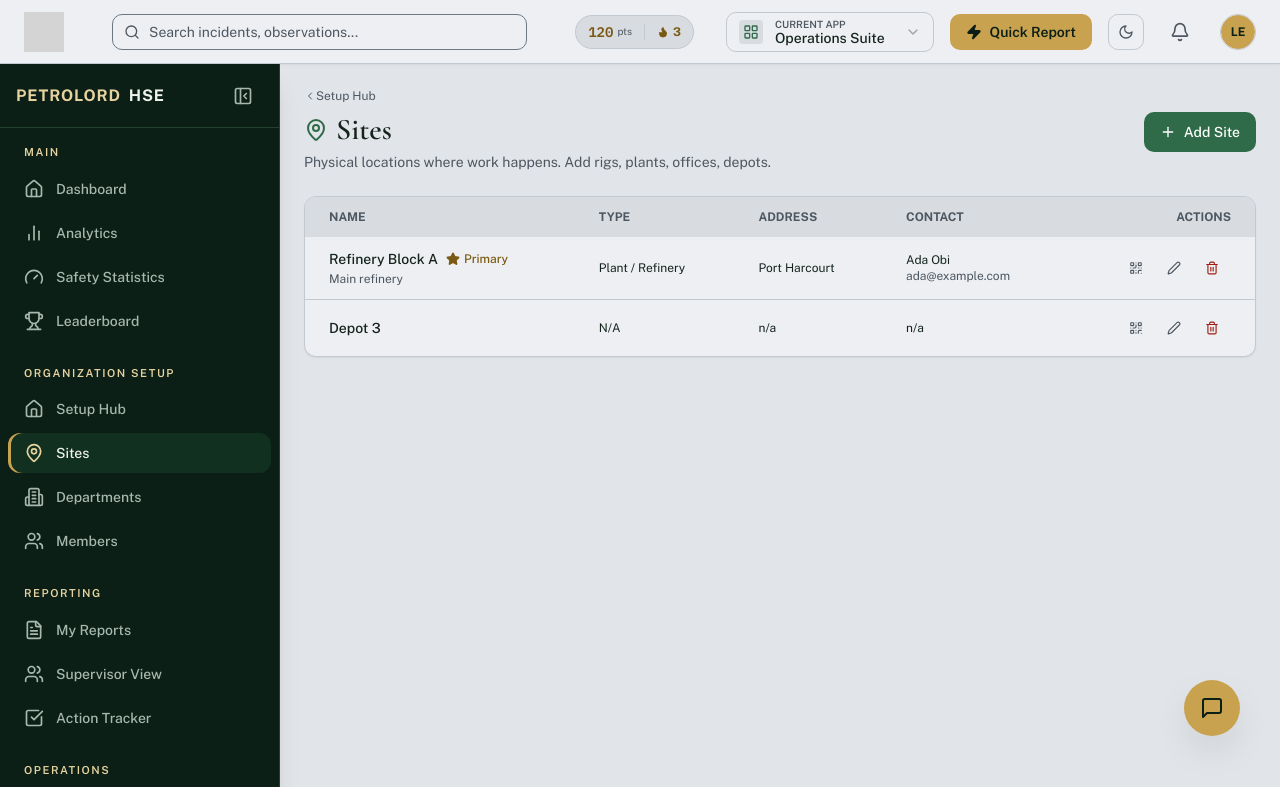
Test: Organisation admin (batch 1C) › further states › Sites: the add dialog (with the site type menu open) is themed, portals included
expect the text "Refinery Block A" is shown: met, box [329, 249, 438, 269]
Press the mouse on the button "Add Site" at (1200,132), box [1144, 112, 1256, 152]
Click the button "Add Site" at (1200,132), box [1144, 112, 1256, 152]
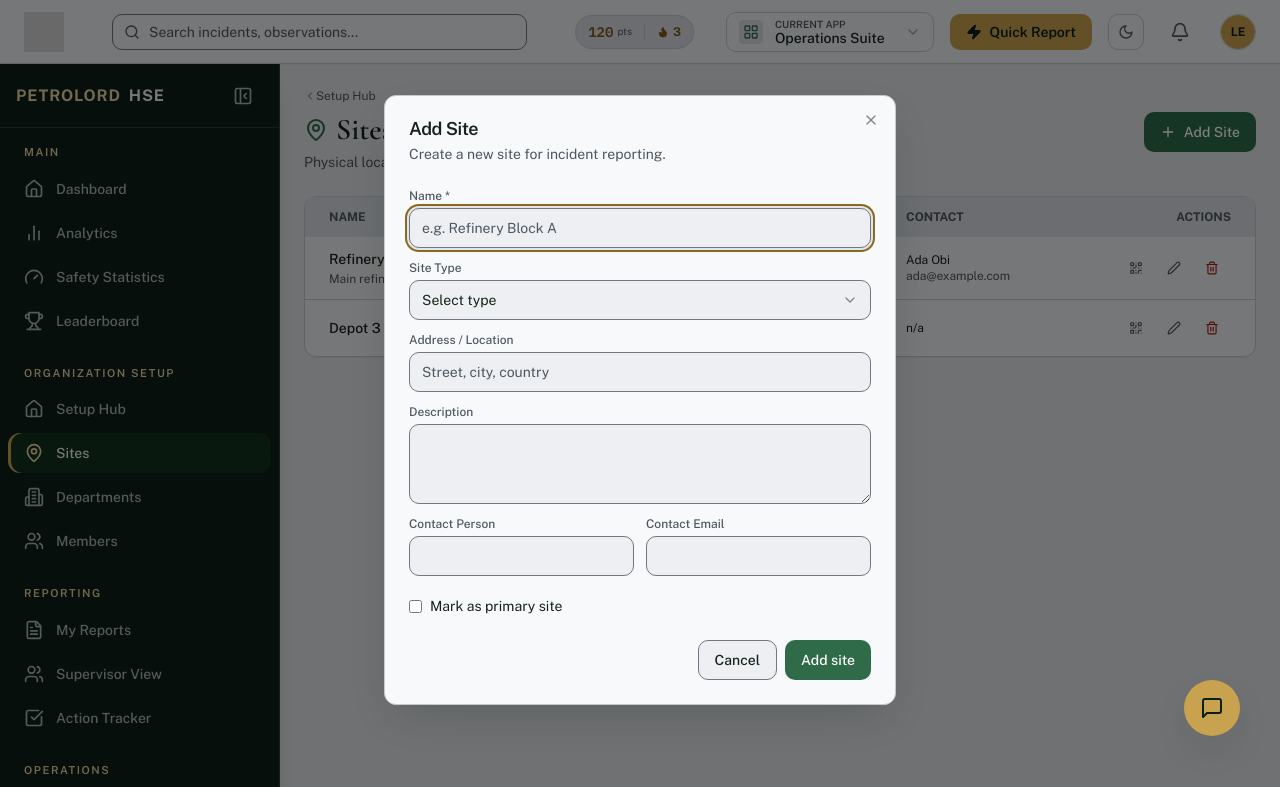
expect the text "Mark as primary site" is shown: met, box [409, 598, 562, 614]
Press the mouse on the dropdown at (459,300), box [409, 280, 871, 320]
Click the dropdown at (459,300), box [409, 280, 871, 320]
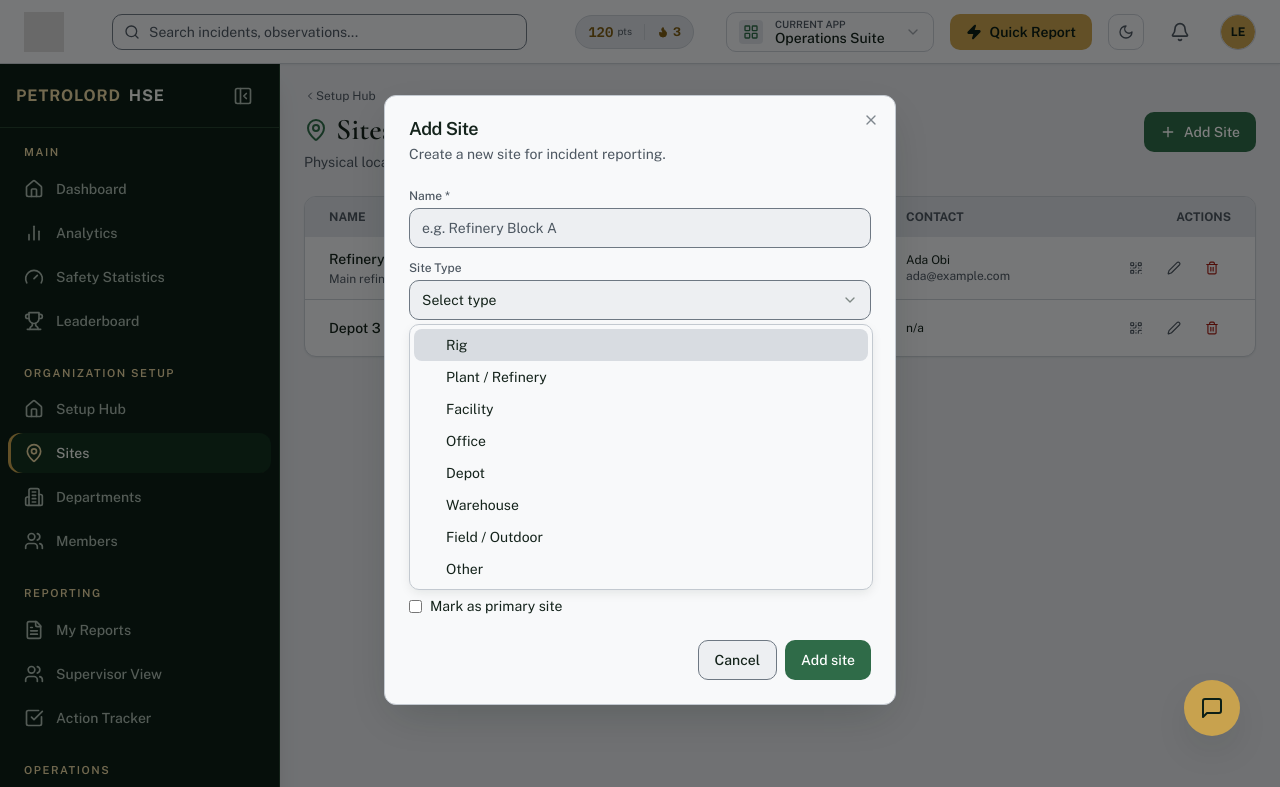
expect the option "Plant / Refinery" is shown: met, box [446, 369, 547, 385]
